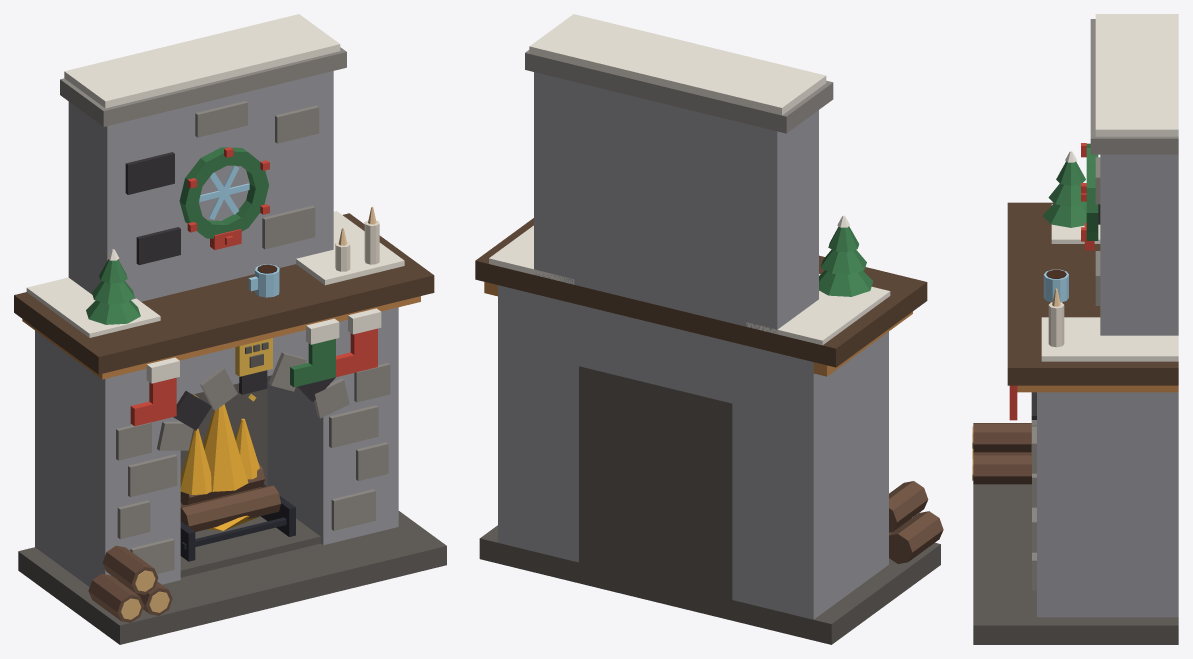
Rendered from CatCafe_Decor_StoneFireplace.glb.
3 renders of one model, left to right at view 1: azimuth 30°, elevation 25°; view 2: azimuth 150°, elevation 25°; view 3: azimuth 270°, elevation 25°, orthographic. The views are drawn at different scales.
Visible parts, largest first — view 1: CatCafe_Decor_StoneFireplace, CatCafe_Decor_StoneFireplace_Fire_Glow; view 2: CatCafe_Decor_StoneFireplace; view 3: CatCafe_Decor_StoneFireplace.
Boxes of the visible parts, box(x1,y1,x2,y2) form: CatCafe_Decor_StoneFireplace: box(14, 14, 446, 644); CatCafe_Decor_StoneFireplace_Fire_Glow: box(180, 404, 259, 494); CatCafe_Decor_StoneFireplace: box(475, 14, 943, 644); CatCafe_Decor_StoneFireplace: box(972, 14, 1178, 644).
Bounding box in the file's own units: 4 × 5.56 × 2.11.
Materials: 1 (1 with a texture image).
